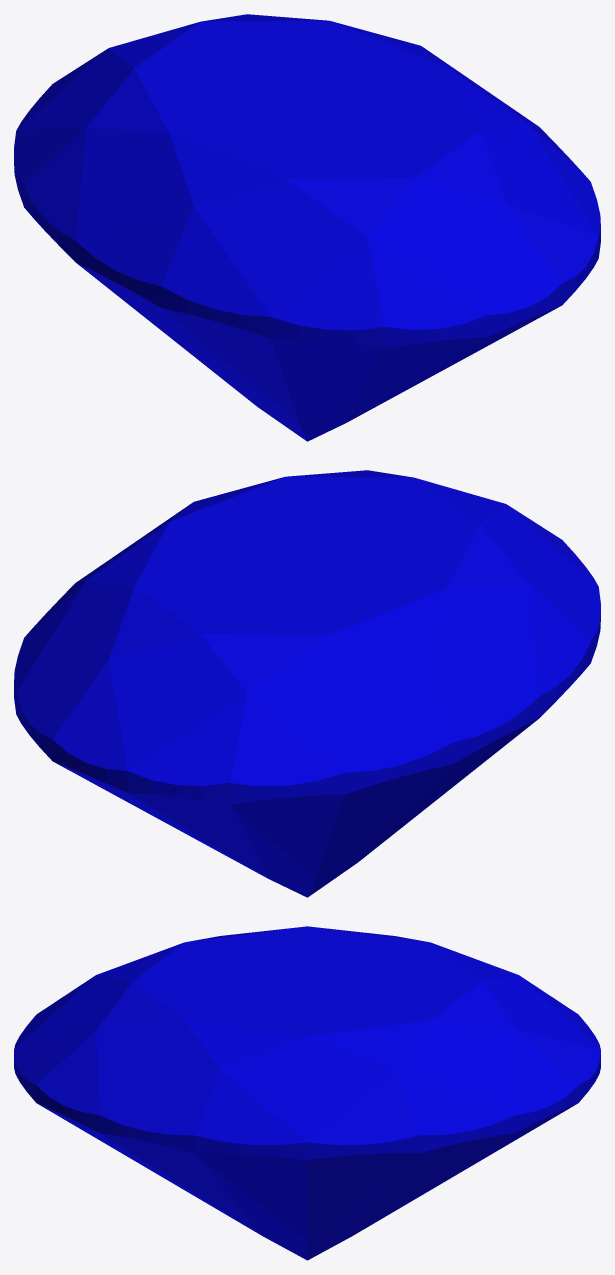
File: Head_Hidden Halo_Oval_1.0ct_Diamond.glb
The picture shows the model from 3 angles, top to bottom: view 1: azimuth 30°, elevation 25°; view 2: azimuth 150°, elevation 25°; view 3: azimuth 270°, elevation 25°; orthographic projection. The views are drawn at different scales.
Bounding box in the file's own units: 0.00574 × 0.00404 × 0.00769.
